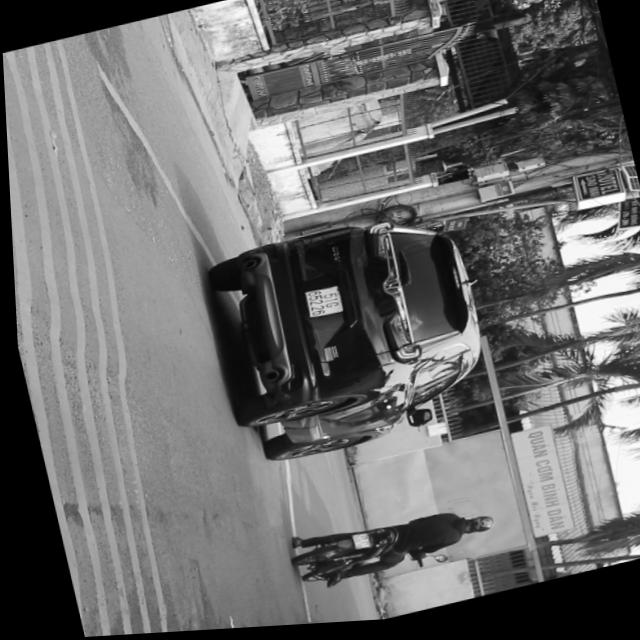helmet: (458, 514, 493, 539)
licenseplate: (282, 493, 500, 595)
nohelmet: (345, 534, 364, 552)
